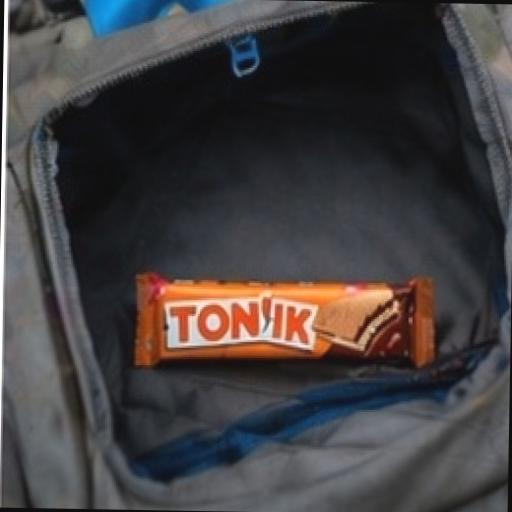tonik: (97, 182, 480, 452), (107, 176, 116, 182)
